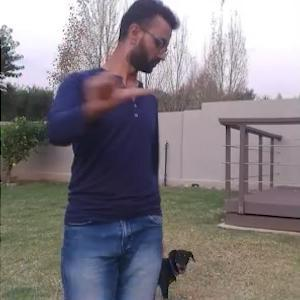land_hand: (66, 32, 153, 116)
